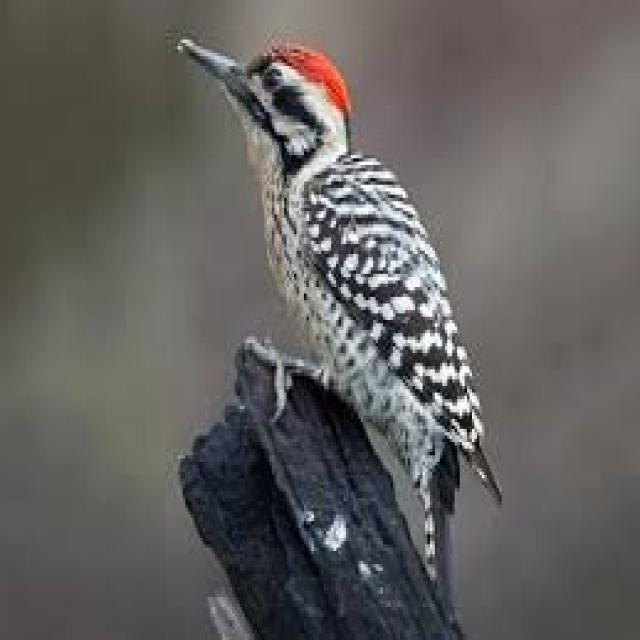woodpecker: (183, 40, 502, 577)
